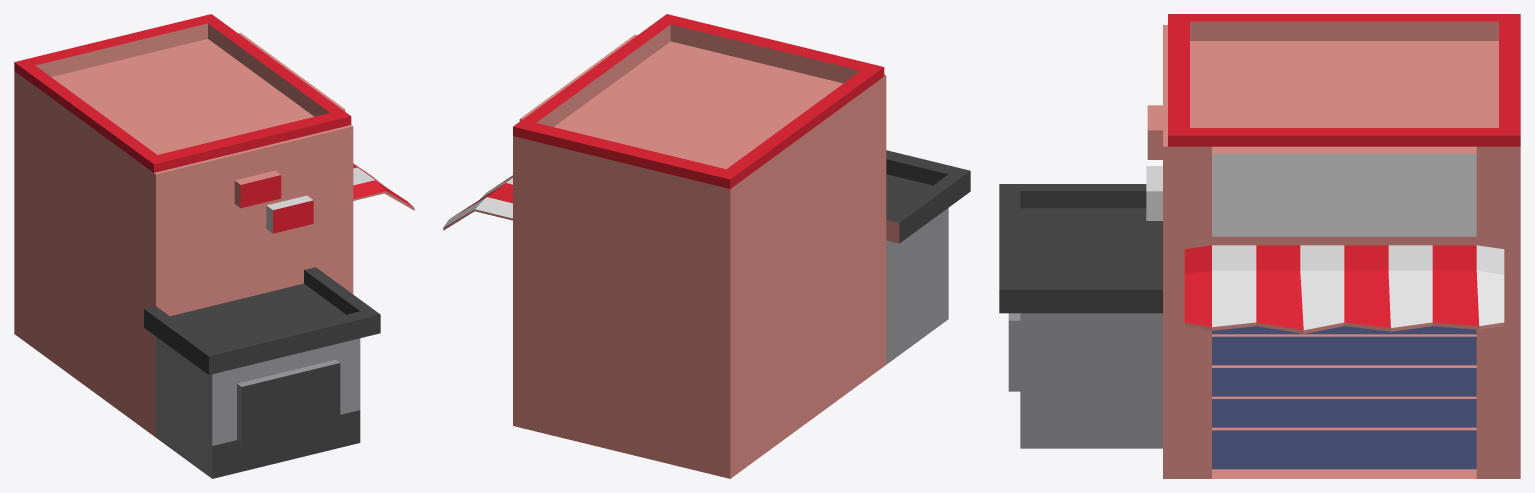
File: shop.fbx
3 renders of one model, left to right at view 1: azimuth 30°, elevation 25°; view 2: azimuth 150°, elevation 25°; view 3: azimuth 270°, elevation 25°, orthographic. The views are drawn at different scales.
Visible parts, largest first — view 1: Cube; view 2: Cube; view 3: Cube.
Boxes of the visible parts, x1,y1,x2,y2 form: Cube: (14, 14, 414, 478); Cube: (443, 14, 970, 478); Cube: (999, 14, 1520, 478).
Bounding box in the file's own units: 627 × 573 × 789.
